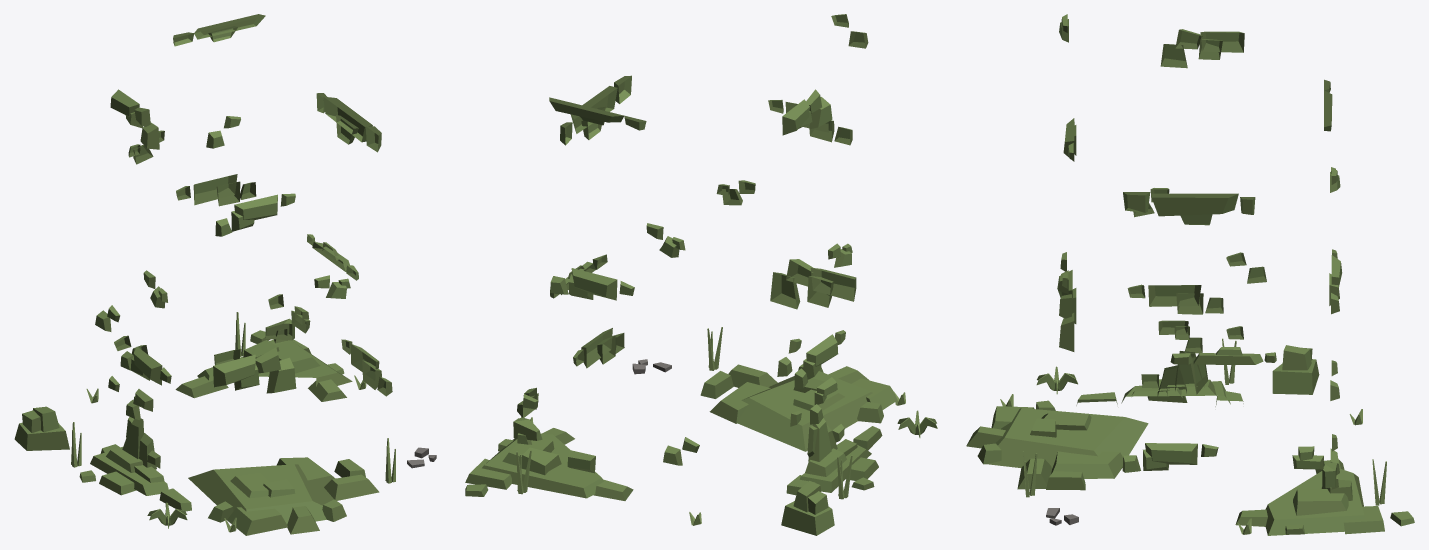
File: SA_Bld_OfficeGrey_Growth_03.gltf
The picture shows the model from 3 angles, left to right: view 1: azimuth 30°, elevation 25°; view 2: azimuth 150°, elevation 25°; view 3: azimuth 270°, elevation 25°; orthographic projection. The views are drawn at different scales.
Parts seen in each view (by area): view 1: SA_Bld_OfficeGrey_Growth_03; view 2: SA_Bld_OfficeGrey_Growth_03; view 3: SA_Bld_OfficeGrey_Growth_03.
Part boxes in pixels (x1,y1,x2,y2): SA_Bld_OfficeGrey_Growth_03: (14, 14, 436, 535); SA_Bld_OfficeGrey_Growth_03: (465, 14, 937, 535); SA_Bld_OfficeGrey_Growth_03: (966, 14, 1414, 535).
Bounding box in the file's own units: 19.85 × 23.18 × 23.
Materials: 1 (1 with a texture image).
